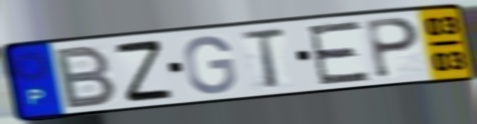B: (54, 43, 120, 112)
E: (305, 18, 373, 87)
G: (181, 33, 239, 96)
P: (364, 16, 422, 80)
T: (237, 25, 290, 91)
Z: (111, 37, 176, 105)
